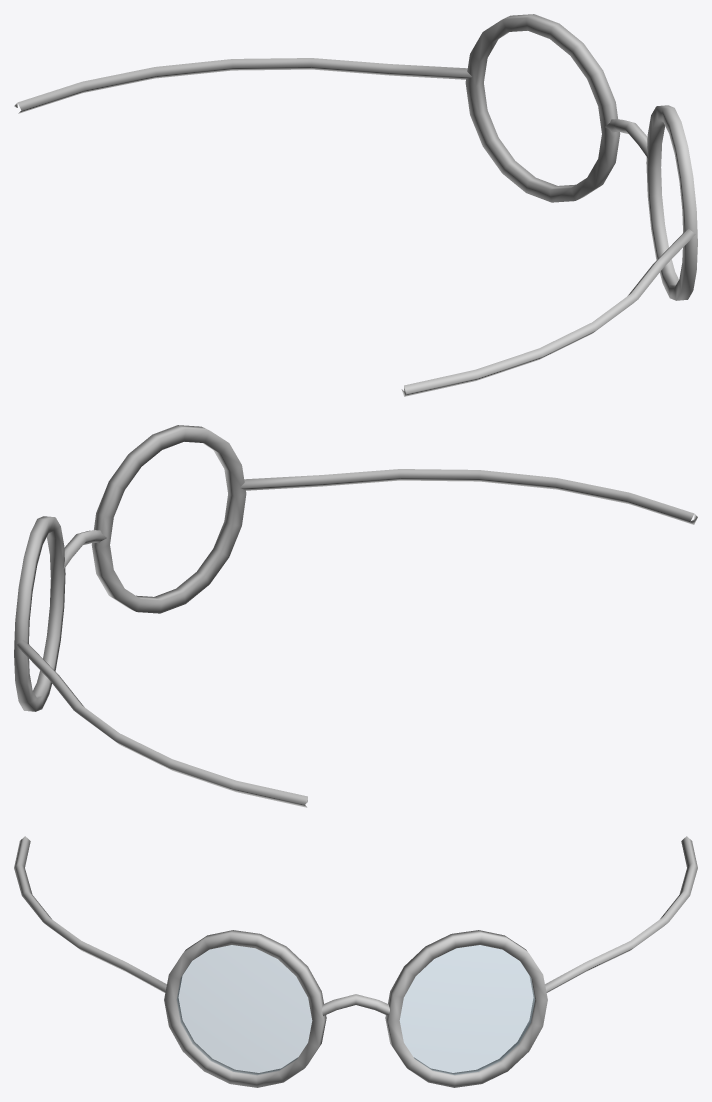
File: acc_glasses_round.glb
3 views of the same model, one above another, from view 1: azimuth 30°, elevation 25°; view 2: azimuth 150°, elevation 25°; view 3: azimuth 270°, elevation 25° (orthographic). The views are drawn at different scales.
Parts seen in each view (by area): view 1: acc_glasses_round; view 2: acc_glasses_round; view 3: acc_glasses_round.
Part boxes in pixels (x1,y1,x2,y2): acc_glasses_round: [14, 14, 697, 396]; acc_glasses_round: [14, 425, 697, 807]; acc_glasses_round: [14, 836, 697, 1087].
Size of the model in its own units: 0.3255 by 0.127 by 0.5255.
